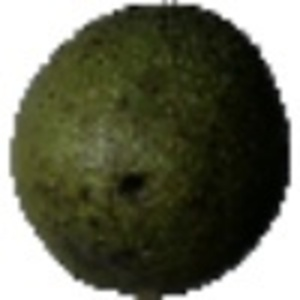abacate: (9, 2, 291, 293)
